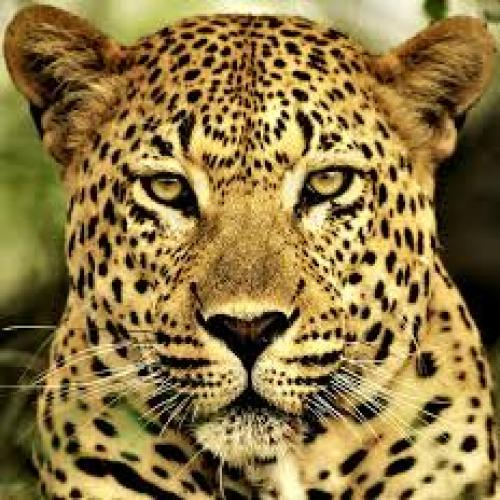jaguar_not-endangered: (44, 18, 480, 500)
